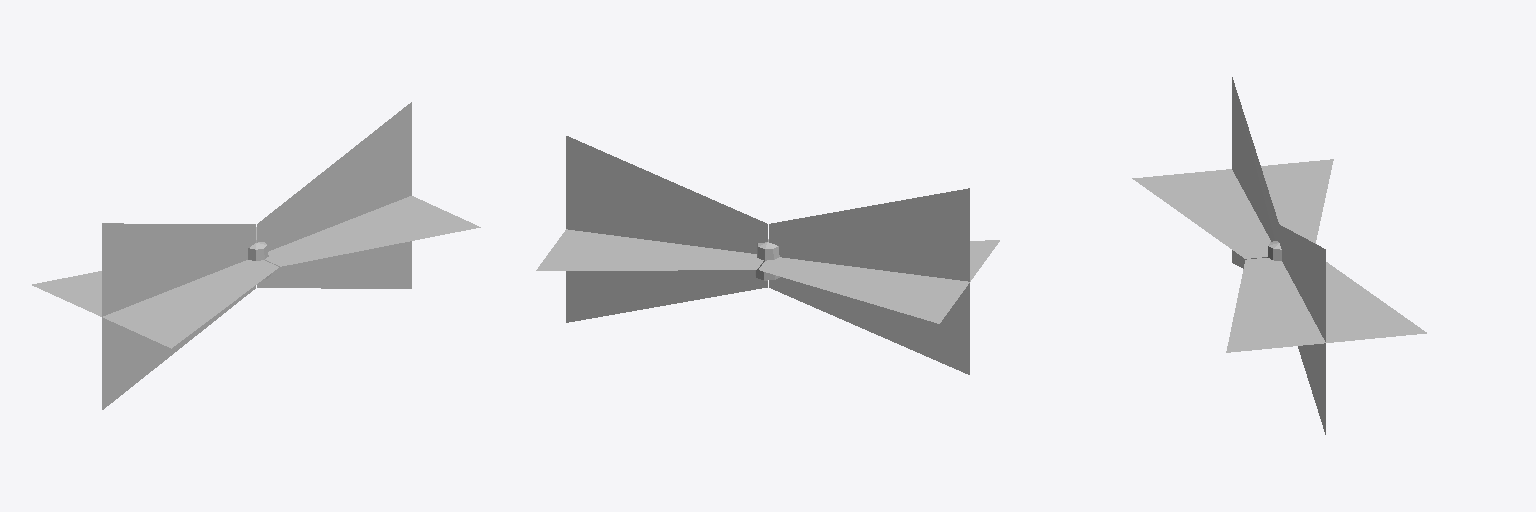
File: stg400_MotRotlightA_03.obj
3 renders of one model, left to right at view 1: azimuth 30°, elevation 25°; view 2: azimuth 150°, elevation 25°; view 3: azimuth 270°, elevation 25°, orthographic.
Parts seen in each view (by area): view 1: polygon4; view 2: polygon4; view 3: polygon4.
Boxes of the visible parts, x1,y1,x2,y2 form: polygon4: [32, 102, 480, 409]; polygon4: [536, 136, 999, 374]; polygon4: [1132, 77, 1426, 434].
Bounding box in the file's own units: 141 × 63.89 × 91.3.